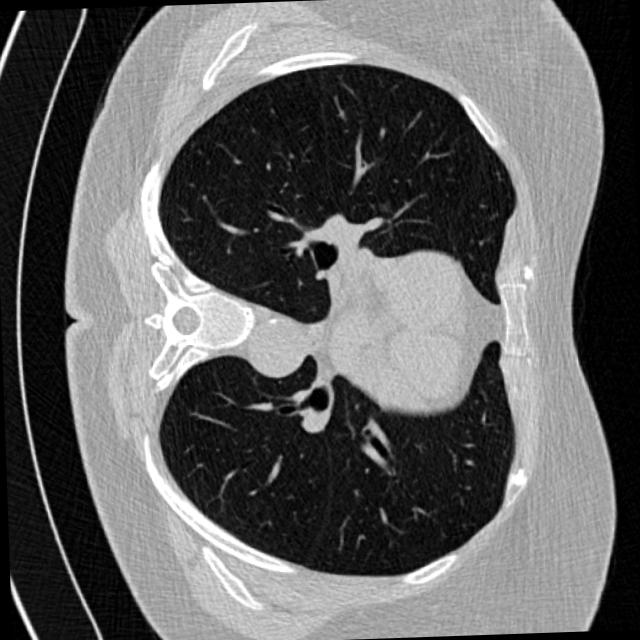nodule: (374, 195, 396, 218)
